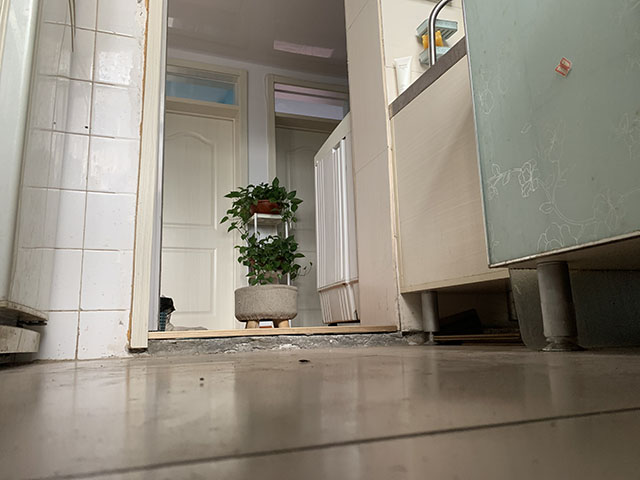cabinet: (462, 1, 640, 354), (387, 36, 511, 346)
stool: (233, 283, 299, 329)
